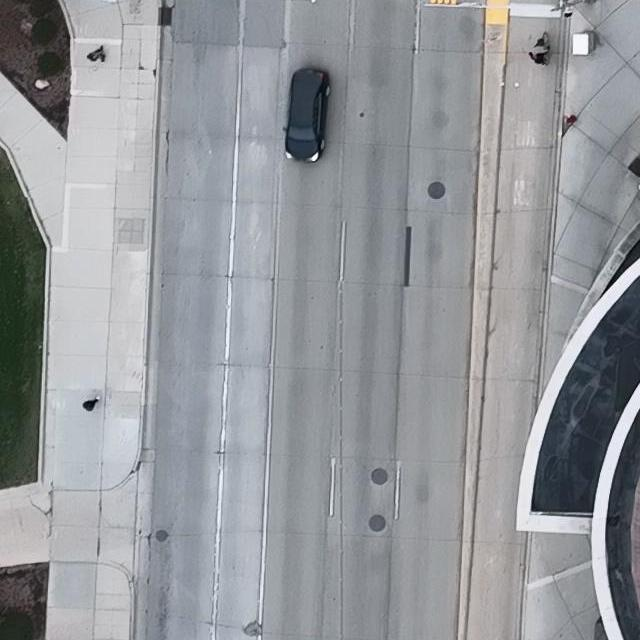car: (282, 68, 332, 163)
